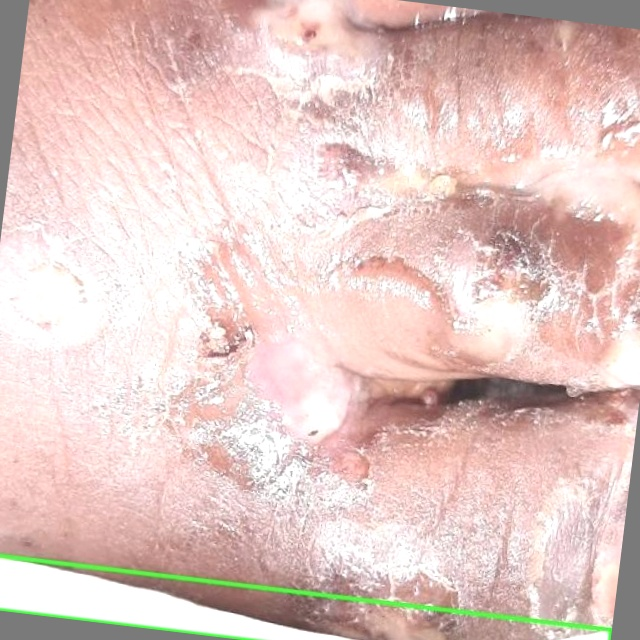Eczema: (0, 555, 611, 639)
